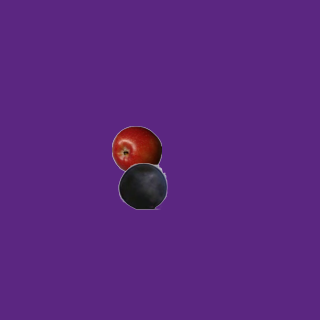Apple Braeburn: (111, 125, 161, 175)
Grape Blue: (117, 160, 167, 210)
